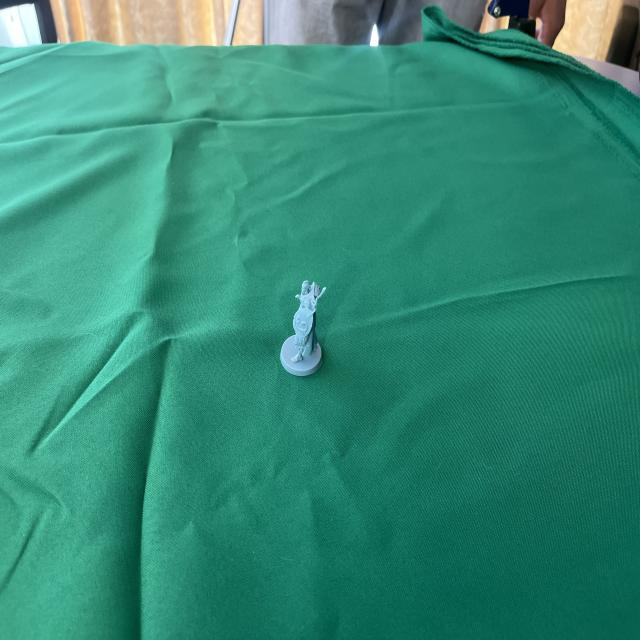isis_follower: (274, 275, 328, 377)
